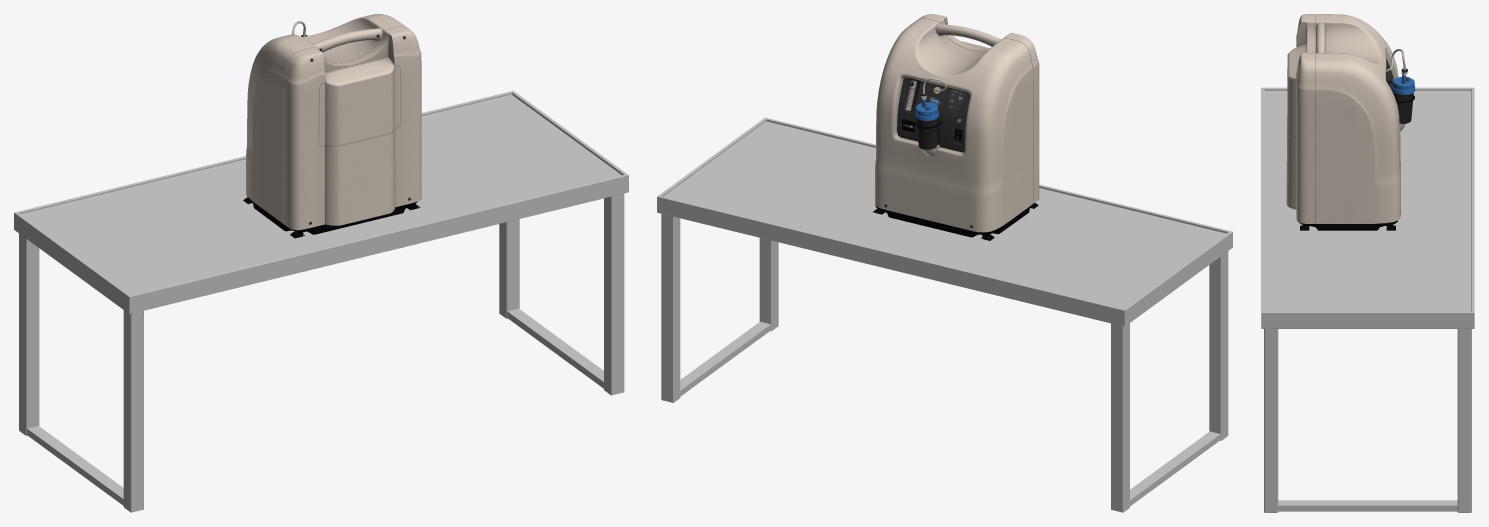
Rendered from Oxygen_MachineSim.fbx.
The picture shows the model from 3 angles, left to right: view 1: azimuth 30°, elevation 25°; view 2: azimuth 150°, elevation 25°; view 3: azimuth 270°, elevation 25°; orthographic projection. The views are drawn at different scales.
Parts seen in each view (by area): view 1: Bench1, OxygenTankBase; view 2: Bench1, OxygenTankBase, PanelBase; view 3: Bench1, OxygenTankBase, CupBase, polySurface36.
Boxes of the visible parts, x1,y1,x2,y2 form: Bench1: [14, 90, 628, 512]; OxygenTankBase: [243, 14, 421, 238]; Bench1: [657, 117, 1232, 512]; OxygenTankBase: [872, 14, 1039, 240]; PanelBase: [897, 77, 970, 152]; Bench1: [1261, 87, 1474, 512]; OxygenTankBase: [1286, 14, 1400, 230]; CupBase: [1393, 92, 1413, 123]; polySurface36: [1392, 77, 1415, 94].
Bounding box in the file's own units: 300 × 228 × 120.
